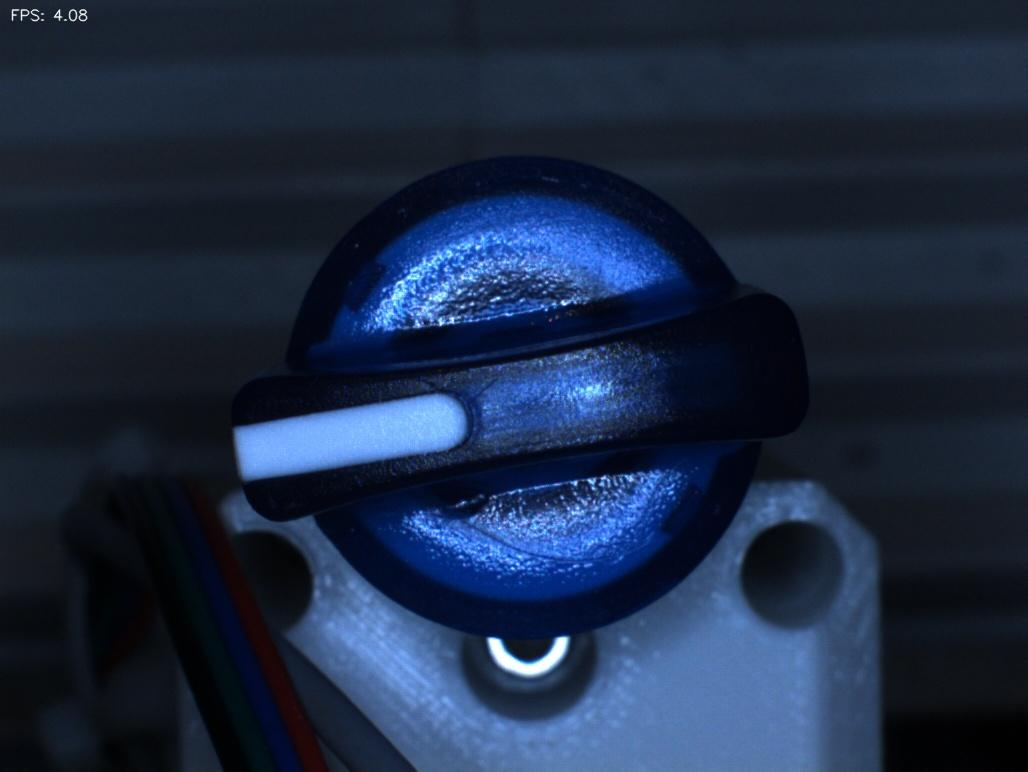Choc: (414, 465, 509, 545)
